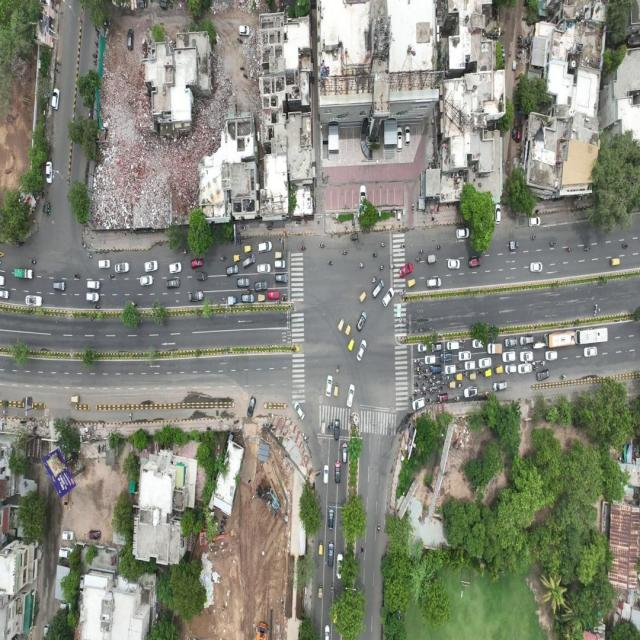3W: (608, 257, 622, 269), (317, 539, 324, 558), (427, 254, 439, 265), (358, 290, 368, 303), (347, 338, 355, 353), (227, 295, 238, 305), (232, 252, 242, 263), (494, 365, 504, 376), (317, 582, 323, 600), (349, 232, 359, 242), (407, 280, 417, 290), (467, 372, 477, 382), (345, 322, 352, 336), (338, 316, 344, 332), (482, 370, 493, 378), (321, 419, 326, 435), (334, 361, 340, 374), (257, 294, 266, 302), (334, 383, 339, 397), (244, 245, 253, 252), (456, 373, 463, 381), (275, 252, 284, 258)
Bus: (577, 325, 609, 346), (545, 331, 576, 348)
Cars: (382, 288, 395, 311), (246, 394, 257, 420), (493, 203, 504, 228), (293, 400, 306, 420), (346, 382, 356, 408), (455, 225, 471, 241), (25, 294, 43, 308), (356, 311, 368, 332), (399, 262, 414, 278), (357, 338, 367, 361), (188, 289, 204, 303), (257, 239, 273, 253), (242, 254, 256, 270), (336, 553, 344, 580), (327, 539, 334, 569), (492, 381, 508, 394), (324, 375, 333, 397), (528, 215, 542, 229), (52, 280, 67, 293), (115, 261, 130, 274), (427, 276, 442, 289), (143, 260, 159, 272), (327, 507, 335, 531), (334, 461, 342, 484), (168, 262, 182, 275), (464, 386, 479, 398), (536, 371, 551, 383), (468, 257, 484, 268), (98, 258, 112, 270), (166, 278, 180, 290), (530, 262, 544, 274), (85, 292, 100, 303), (140, 275, 153, 287), (190, 257, 203, 269), (226, 264, 239, 276), (258, 263, 271, 275), (447, 258, 460, 270), (503, 350, 516, 362), (236, 278, 251, 288), (242, 294, 255, 305), (275, 273, 288, 284), (254, 280, 268, 290), (504, 338, 518, 348), (520, 335, 534, 345), (439, 353, 454, 362), (342, 442, 348, 464), (545, 350, 558, 360), (323, 464, 329, 485), (267, 290, 279, 300), (424, 354, 436, 364), (274, 260, 286, 268)
LCV: (12, 267, 34, 281), (334, 418, 341, 442), (86, 280, 102, 290), (509, 239, 519, 255), (195, 271, 208, 282)
M2W: (357, 542, 368, 560), (373, 522, 383, 536), (582, 244, 592, 254), (73, 272, 83, 280), (621, 241, 629, 251), (356, 261, 365, 269), (30, 257, 38, 265), (565, 246, 573, 254), (81, 240, 88, 249), (87, 252, 94, 261), (219, 255, 228, 262), (330, 582, 335, 594), (319, 242, 326, 250), (327, 260, 335, 267), (549, 241, 557, 248), (560, 373, 567, 381), (379, 263, 385, 272), (530, 233, 536, 242), (399, 288, 405, 297), (371, 274, 376, 284), (300, 245, 307, 252), (399, 243, 406, 250), (182, 248, 188, 256), (341, 250, 349, 256), (373, 252, 379, 259), (380, 241, 386, 248), (389, 263, 396, 269), (418, 248, 425, 254), (435, 244, 441, 251), (282, 296, 288, 302), (278, 236, 284, 242), (241, 226, 247, 232), (331, 419, 334, 431), (108, 274, 115, 279), (94, 304, 101, 309), (267, 226, 274, 231), (246, 288, 252, 293), (238, 238, 243, 244), (415, 257, 421, 262), (328, 422, 330, 435), (276, 301, 281, 305)
